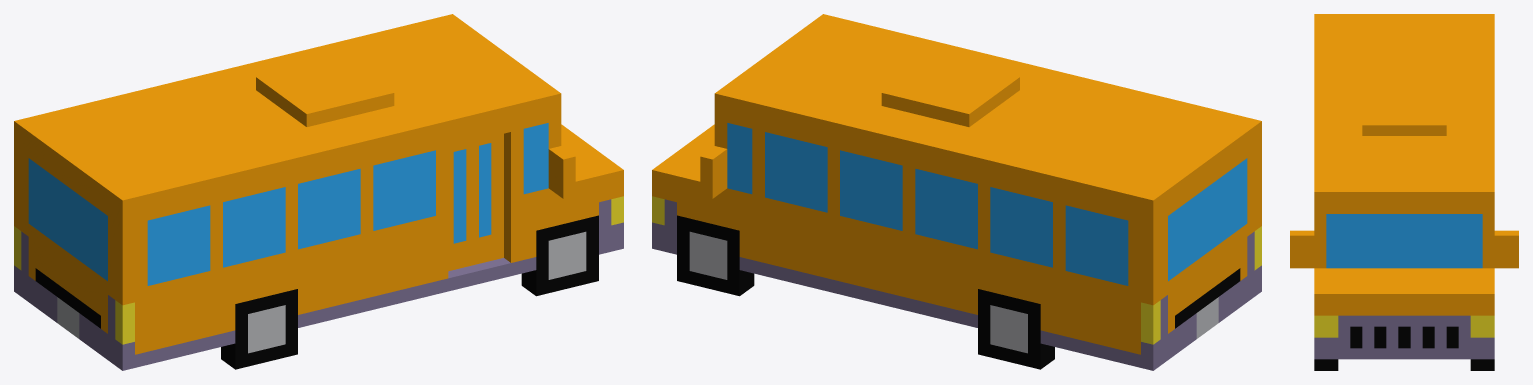
Rendered from school_bus.obj.
The picture shows the model from 3 angles, left to right: view 1: azimuth 30°, elevation 25°; view 2: azimuth 150°, elevation 25°; view 3: azimuth 270°, elevation 25°; orthographic projection. The views are drawn at different scales.
Bounding box in the file's own units: 4 × 1.6 × 1.9.
Materials: 1 (1 with a texture image).
